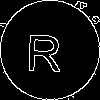R: (25, 25, 63, 72)
